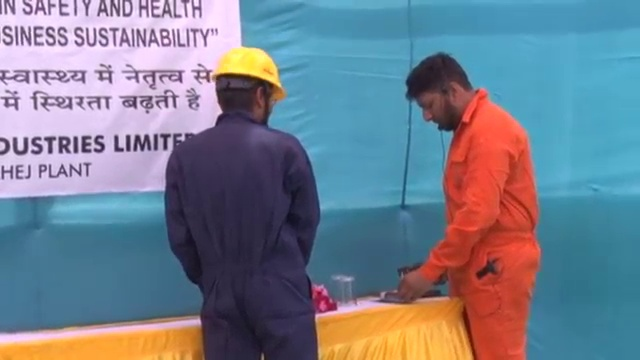helmet: (209, 45, 288, 99)
helmet_off: (407, 55, 474, 133)
helmet_on: (209, 45, 288, 126)
person: (159, 44, 320, 360), (394, 54, 544, 360)
